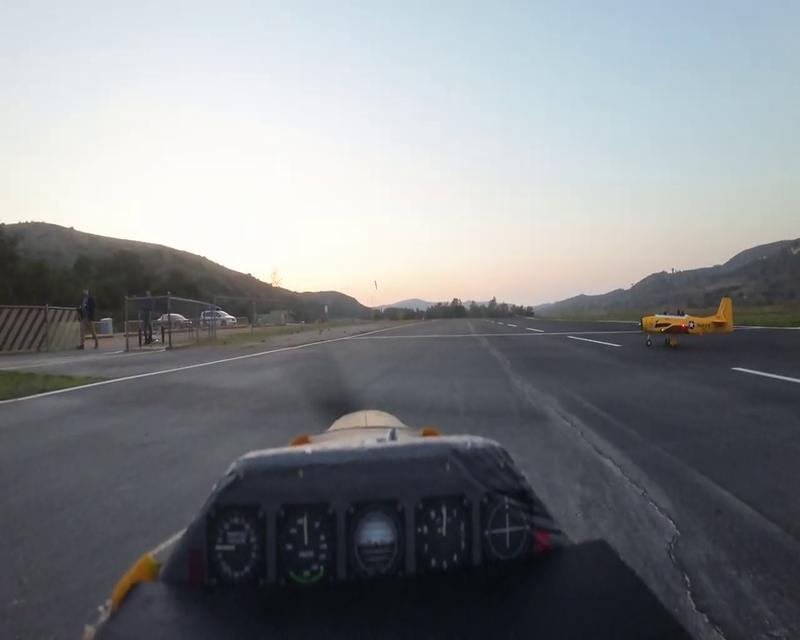UAV: (639, 299, 736, 347)
